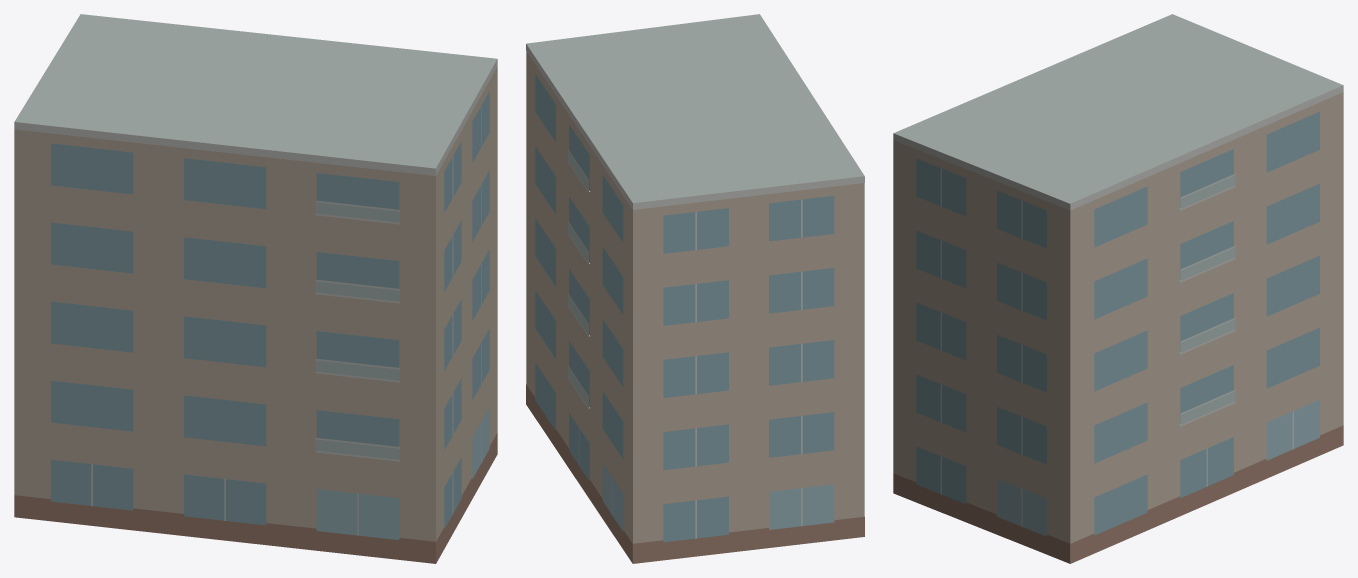
File: survey-upis-32885049.glb
3 views of the same model, side by side, from view 1: azimuth 30°, elevation 25°; view 2: azimuth 150°, elevation 25°; view 3: azimuth 270°, elevation 25° (orthographic). The views are drawn at different scales.
Visible parts, largest first — view 1: survey-upis-32885049.tmp; view 2: survey-upis-32885049.tmp; view 3: survey-upis-32885049.tmp.
Part boxes in pixels (bbox=[...]): survey-upis-32885049.tmp: bbox=[14, 14, 497, 563]; survey-upis-32885049.tmp: bbox=[526, 14, 864, 563]; survey-upis-32885049.tmp: bbox=[893, 14, 1343, 563].
Size of the model in its own units: 14.71 by 13 by 14.74.
